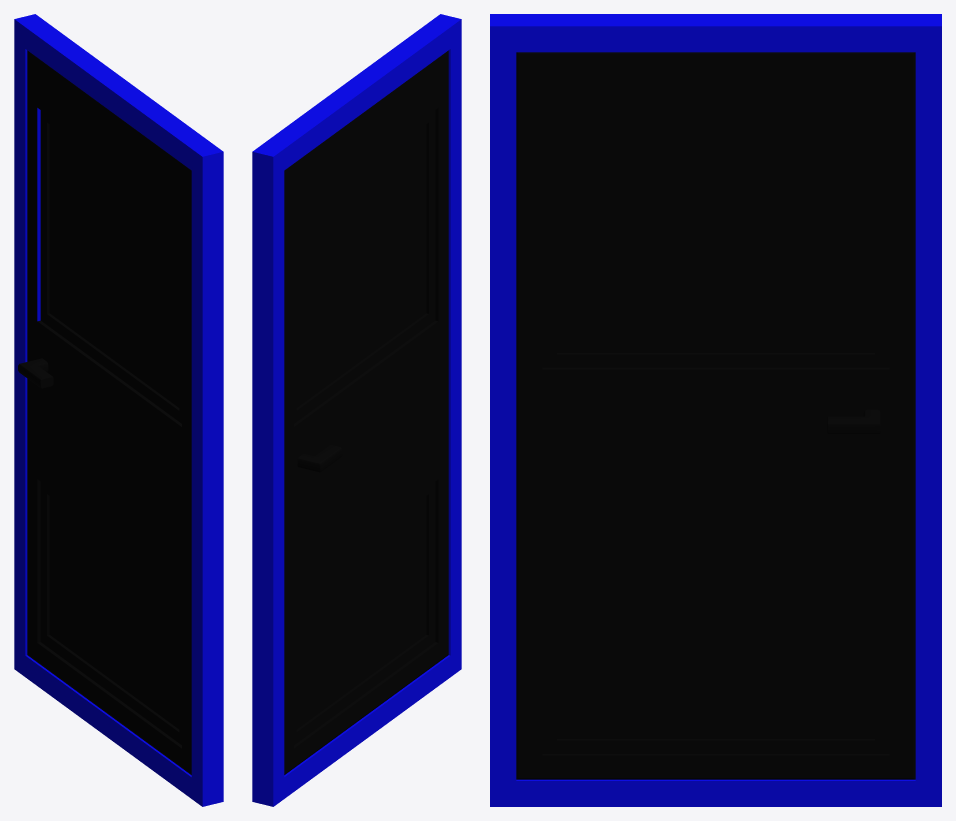
File: DoorFrozen.obj
3 views of the same model, side by side, from view 1: azimuth 30°, elevation 25°; view 2: azimuth 150°, elevation 25°; view 3: azimuth 270°, elevation 25° (orthographic). The views are drawn at different scales.
Visible parts, largest first — view 1: Door1 pasted__DoorReal, Door1 DoorReal, Door1 DoorHandle1; view 2: Door1 pasted__DoorReal, Door1 DoorReal, Door1 DoorHandle1; view 3: Door1 pasted__DoorReal, Door1 DoorReal, DoorHandle Door1.
Part boxes in pixels (left/top/right/bottom): Door1 pasted__DoorReal: left=27, top=50, right=191, bottom=774; Door1 DoorReal: left=14, top=14, right=223, bottom=806; Door1 DoorHandle1: left=18, top=358, right=53, bottom=388; Door1 pasted__DoorReal: left=284, top=50, right=448, bottom=774; Door1 DoorReal: left=252, top=14, right=461, bottom=806; Door1 DoorHandle1: left=297, top=445, right=342, bottom=472; Door1 pasted__DoorReal: left=516, top=52, right=915, bottom=779; Door1 DoorReal: left=490, top=14, right=941, bottom=806; DoorHandle Door1: left=827, top=409, right=880, bottom=433.
Size of the model in its own units: 1.22 by 11.78 by 6.18.
